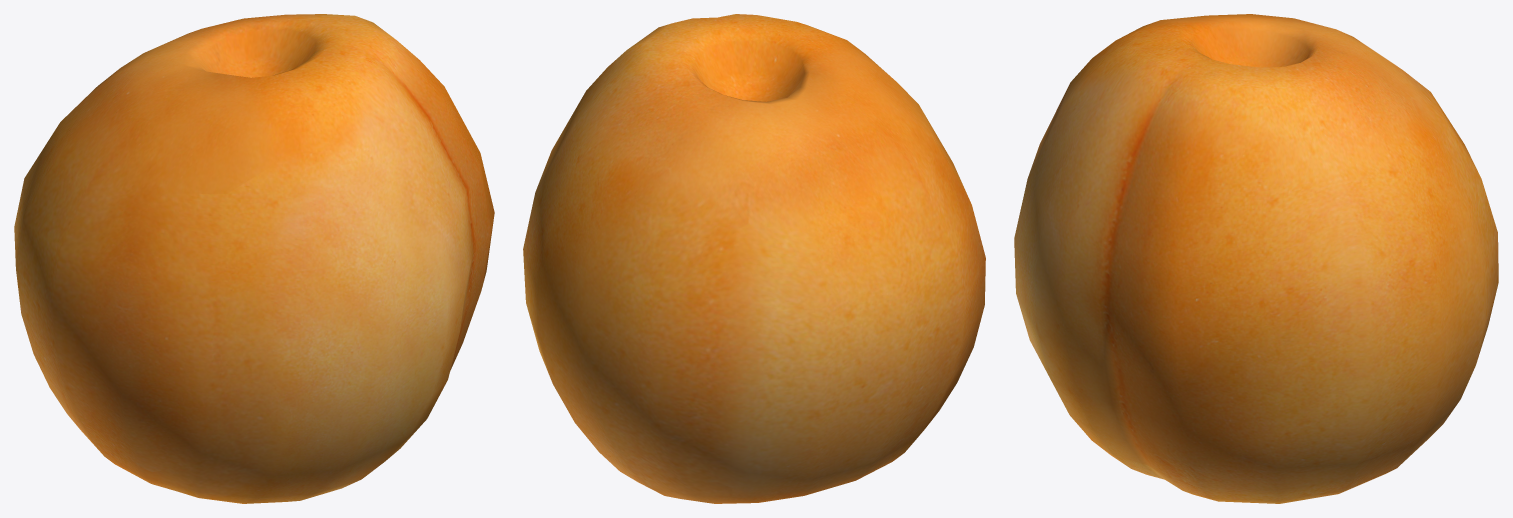
File: uploads-files-732185-Abricot.fbx
3 renders of one model, left to right at view 1: azimuth 30°, elevation 25°; view 2: azimuth 150°, elevation 25°; view 3: azimuth 270°, elevation 25°, orthographic. The views are drawn at different scales.
Parts seen in each view (by area): view 1: Line001; view 2: Line001; view 3: Line001.
Boxes of the visible parts, bbox=[...] form: Line001: bbox=[14, 14, 494, 503]; Line001: bbox=[523, 14, 985, 503]; Line001: bbox=[1014, 14, 1498, 503].
Size of the model in its own units: 2.08 by 2.04 by 2.07.
1 material, 1 textured.
